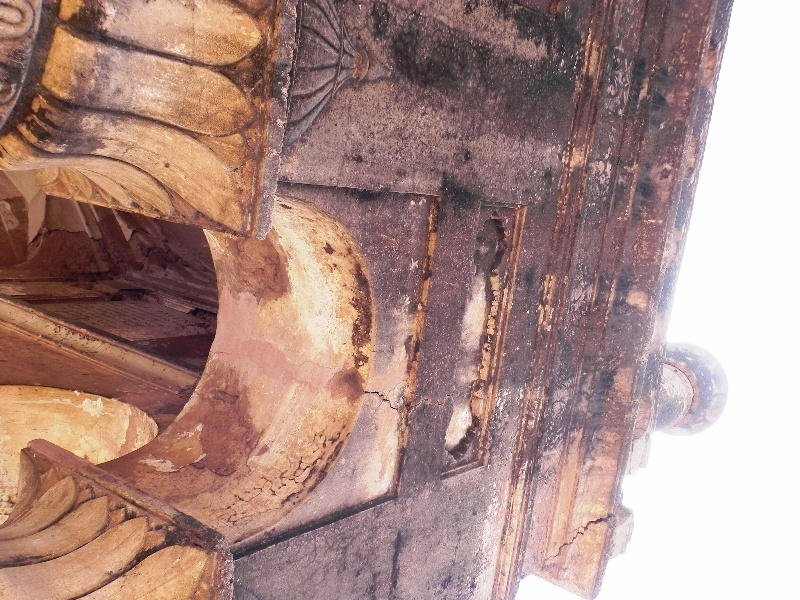Crack: (541, 512, 610, 564), (365, 380, 400, 418)
